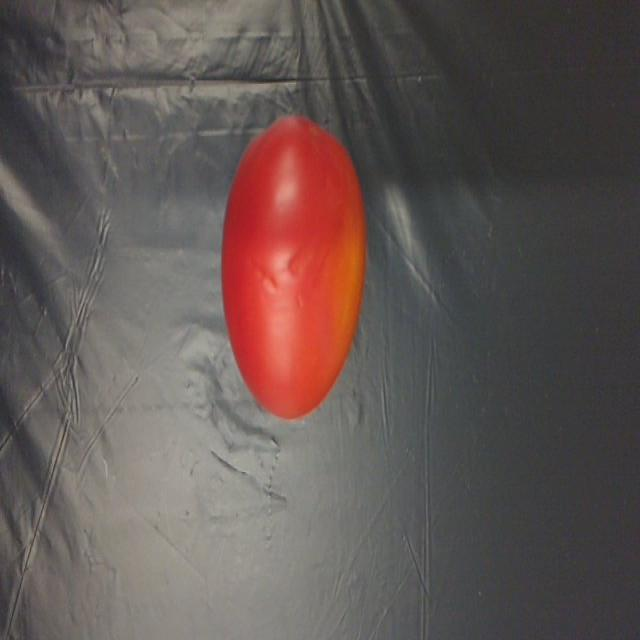kirmizi: (184, 120, 330, 411)
